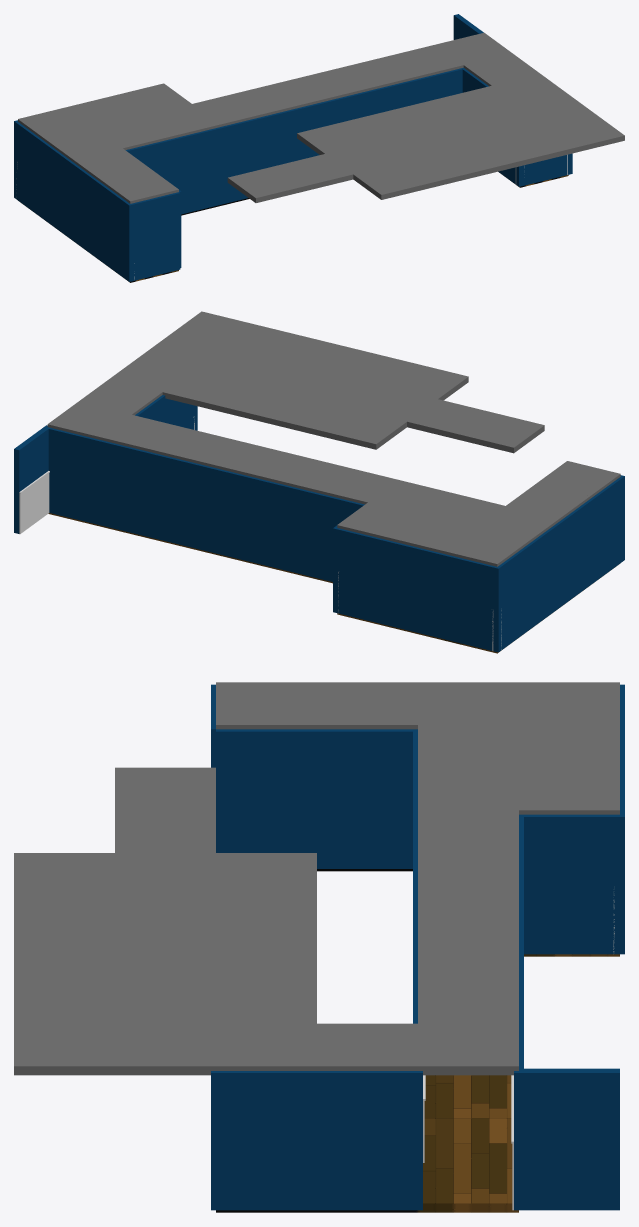
3 renders of one model, top to bottom at view 1: azimuth 30°, elevation 25°; view 2: azimuth 150°, elevation 25°; view 3: azimuth 270°, elevation 25°, orthographic. The views are drawn at different scales.
Parts seen in each view (by area): view 1: Ceiling, Wall.007, WallWindow.003; view 2: Ceiling, Wall.007, WallWindow.003, Floor.013; view 3: Ceiling, Wall.007, Floor.013.
Boxes of the visible parts, x1,y1,x2,y2 form: Ceiling: [18, 32, 624, 203]; Wall.007: [14, 14, 572, 281]; WallWindow.003: [125, 138, 174, 184]; Ceiling: [47, 311, 620, 566]; Wall.007: [14, 395, 624, 652]; WallWindow.003: [257, 478, 315, 577]; Floor.013: [48, 513, 616, 653]; Ceiling: [14, 682, 619, 1075]; Wall.007: [211, 684, 624, 1210]; Floor.013: [216, 869, 619, 1212].
Bounding box in the file's own units: 1820 × 320 × 1210.
Materials: 9 (1 with a texture image).
